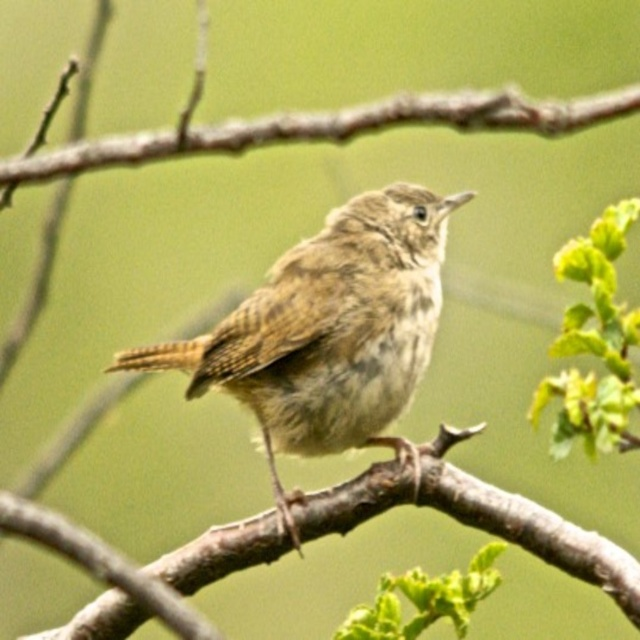Sparrow: (102, 180, 477, 556)
